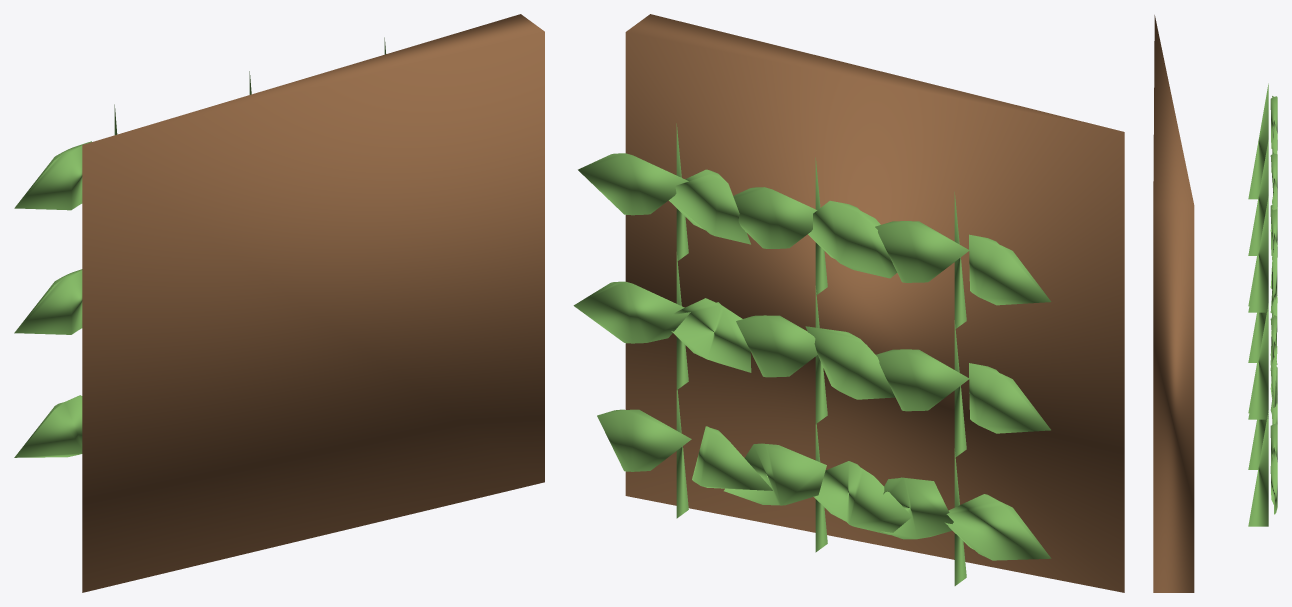
The model's file is tomato_small.glb.
The picture shows the model from 3 angles, left to right: view 1: azimuth 30°, elevation 25°; view 2: azimuth 150°, elevation 25°; view 3: azimuth 270°, elevation 25°; orthographic projection. The views are drawn at different scales.
Visible parts, largest first — view 1: Soil, Leaf.004, Leaf.002, Leaf; view 2: Soil, Leaf.015, Leaf, Leaf.006, Leaf.010, Leaf.017, Leaf.008, Leaf.007, Leaf.004, Leaf.002, Leaf.013, Leaf.003 (+15 smaller); view 3: Soil, Stem.006, Stem.007, Stem.008, Stem.002, Stem.005, Stem.003, Stem.004, Leaf.013, Leaf.017, Leaf.004, Leaf.015 (+4 smaller).
Boxes of the visible parts, x1,y1,x2,y2 form: Soil: [82, 14, 544, 592]; Leaf.004: [14, 141, 91, 210]; Leaf.002: [14, 269, 82, 334]; Leaf: [14, 395, 82, 457]; Soil: [625, 14, 1124, 592]; Leaf.015: [573, 281, 690, 343]; Leaf: [945, 494, 1051, 560]; Leaf.006: [813, 461, 912, 534]; Leaf.010: [808, 200, 897, 278]; Leaf.017: [578, 153, 688, 215]; Leaf.008: [805, 326, 895, 399]; Leaf.007: [724, 443, 826, 505]; Leaf.004: [969, 234, 1051, 305]; Leaf.002: [969, 363, 1050, 433]; Leaf.013: [597, 409, 691, 471]; Leaf.003: [876, 349, 969, 411]; Soil: [1153, 15, 1194, 592]; Stem.006: [1248, 410, 1268, 526]; Stem.007: [1248, 303, 1268, 419]; Stem.008: [1248, 196, 1268, 312]; Stem.002: [1248, 83, 1268, 199]; Stem.005: [1248, 140, 1268, 255]; Stem.003: [1248, 419, 1266, 469]; Stem.004: [1248, 312, 1266, 362]; Leaf.013: [1270, 447, 1277, 514]; Leaf.017: [1270, 233, 1277, 300]; Leaf.004: [1270, 96, 1277, 150]; Leaf.015: [1272, 341, 1277, 407].
Size of the model in its own units: 1.17 by 1.08 by 0.316.
